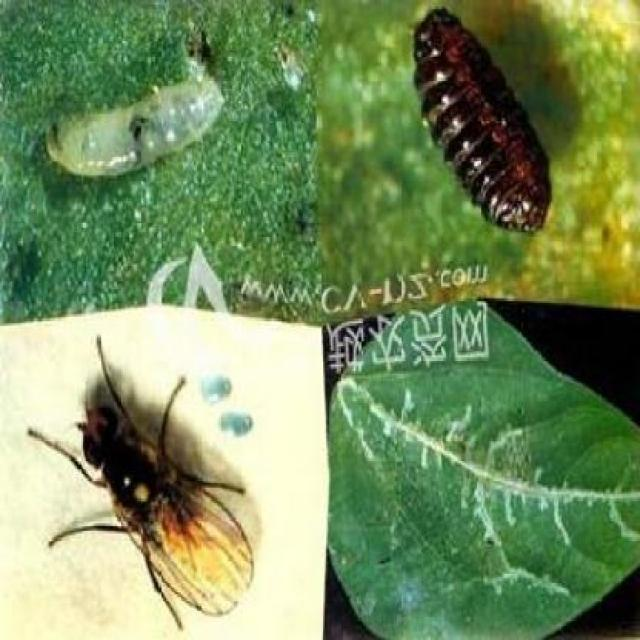whorl-maggot: (401, 3, 564, 245), (38, 68, 239, 190)
